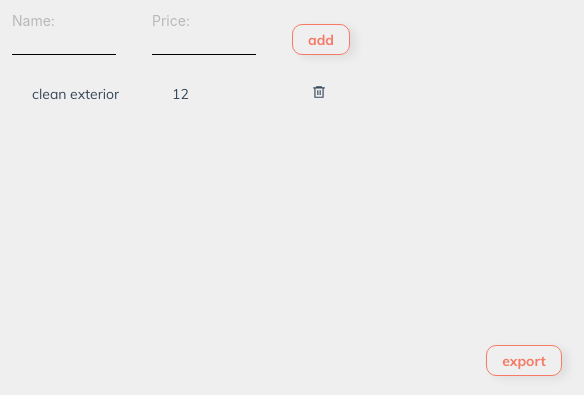
Details › should be able to delete detail
Click the icon with test id "delete-button" at (319, 92), box top-left (312, 85), bottom-right (326, 99)
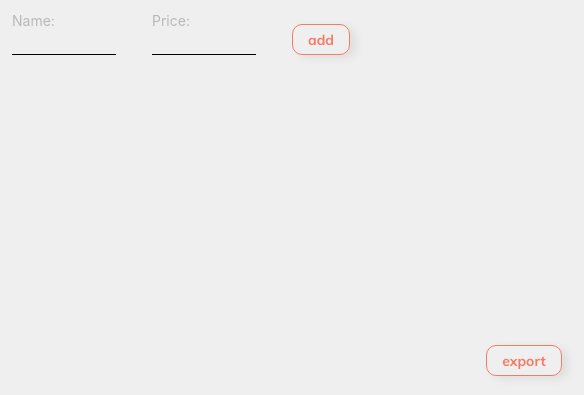
Now the text "clean exterior" is gone
